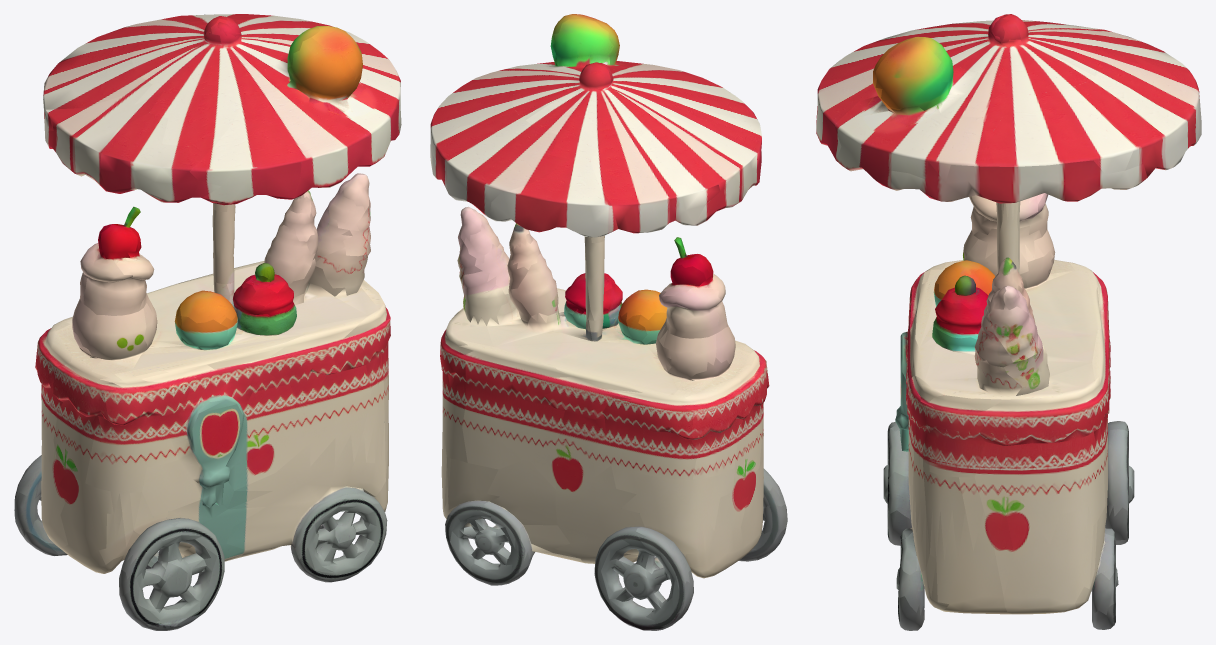
File: hub_ice_cream_cart.glb
3 views of the same model, side by side, from view 1: azimuth 30°, elevation 25°; view 2: azimuth 150°, elevation 25°; view 3: azimuth 270°, elevation 25° (orthographic). The views are drawn at different scales.
Bounding box in the file's own units: 1.15 × 1.91 × 1.14.
Materials: 1 (1 with a texture image).
